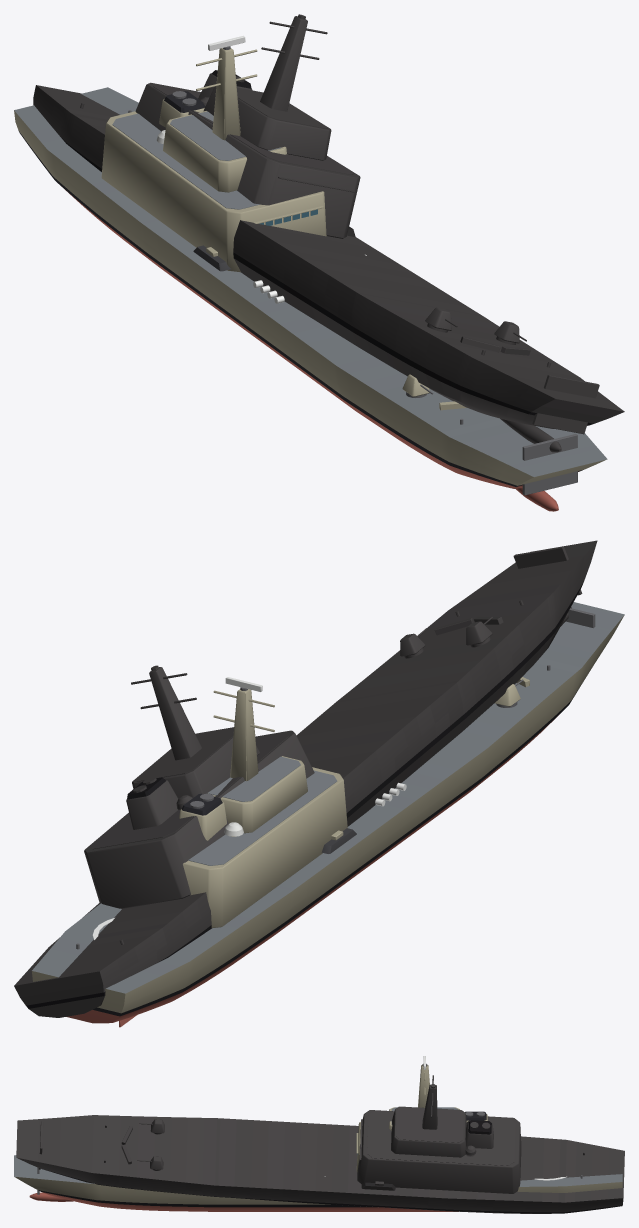
File: landingShip__hengam_class.glb
3 renders of one model, top to bottom at view 1: azimuth 30°, elevation 25°; view 2: azimuth 150°, elevation 25°; view 3: azimuth 270°, elevation 25°, orthographic. The views are drawn at different scales.
Visible parts, largest first — view 1: Hull_Mesh, Wreck; view 2: Wreck, Hull_Mesh; view 3: Wreck, Hull_Mesh.
Part boxes in pixels (bbox=[...]): Hull_Mesh: bbox=[14, 48, 607, 511]; Wreck: bbox=[33, 14, 624, 452]; Wreck: bbox=[14, 540, 597, 1017]; Hull_Mesh: bbox=[32, 602, 624, 1027]; Wreck: bbox=[16, 1075, 624, 1213]; Hull_Mesh: bbox=[14, 1065, 622, 1211].
Size of what is drawn, in the model's own units: 19.08 by 24.94 by 97.28.
